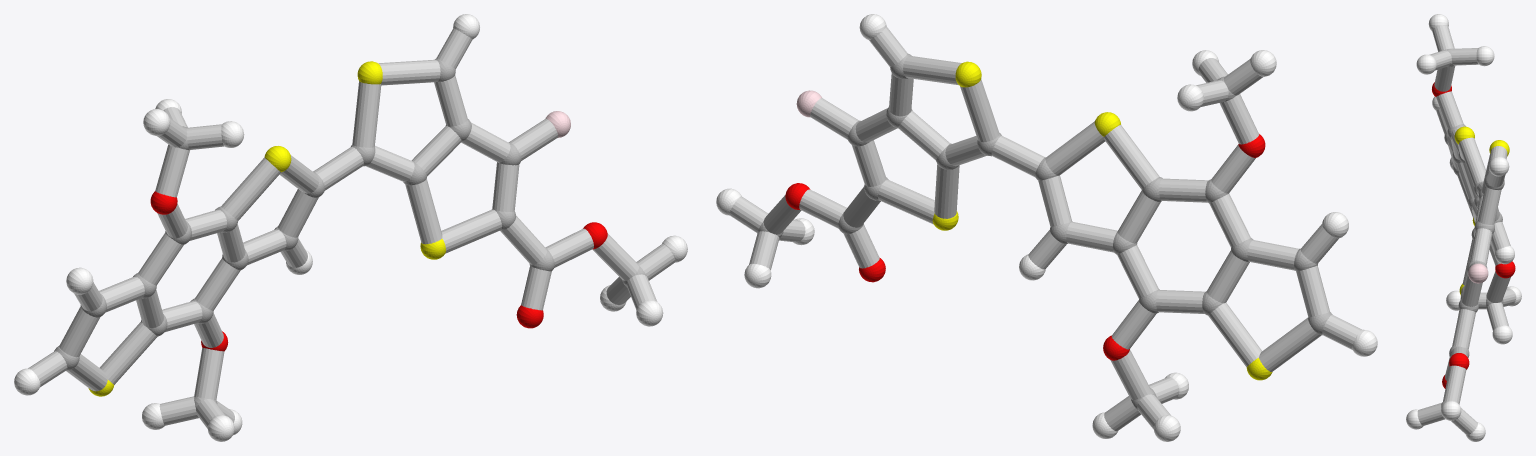
File: Dimethoxy_Benzodithiophene_Phi_5_Theta_150_Methylcarbonyl_3_Fluoro_Thienothiophene.glb
The picture shows the model from 3 angles, left to right: view 1: azimuth 30°, elevation 25°; view 2: azimuth 150°, elevation 25°; view 3: azimuth 270°, elevation 25°; orthographic projection. The views are drawn at different scales.
Visible parts, largest first — view 1: grp15205, grp8689, grp1, grp7241, grp13395; view 2: grp15205, grp8689, grp1, grp7241, grp13395; view 3: grp15205, grp8689, grp1, grp13395, grp7241, grp14843.
Part boxes in pixels (<box>): grp15205: <box>28,28,675,428</box>; grp8689: <box>14,14,687,441</box>; grp1: <box>54,58,646,409</box>; grp7241: <box>88,61,445,396</box>; grp13395: <box>150,191,607,351</box>; grp15205: <box>729,26,1362,431</box>; grp8689: <box>716,14,1377,441</box>; grp1: <box>758,53,1332,409</box>; grp7241: <box>932,61,1272,380</box>; grp13395: <box>785,134,1265,360</box>; grp15205: <box>1417,25,1516,435</box>; grp8689: <box>1406,14,1521,441</box>; grp1: <box>1441,48,1504,407</box>; grp13395: <box>1432,82,1515,388</box>; grp7241: <box>1454,126,1509,295</box>; grp14843: <box>1468,263,1488,283</box>.
Bounding box in the file's own units: 16.97 × 9.37 × 3.43.
